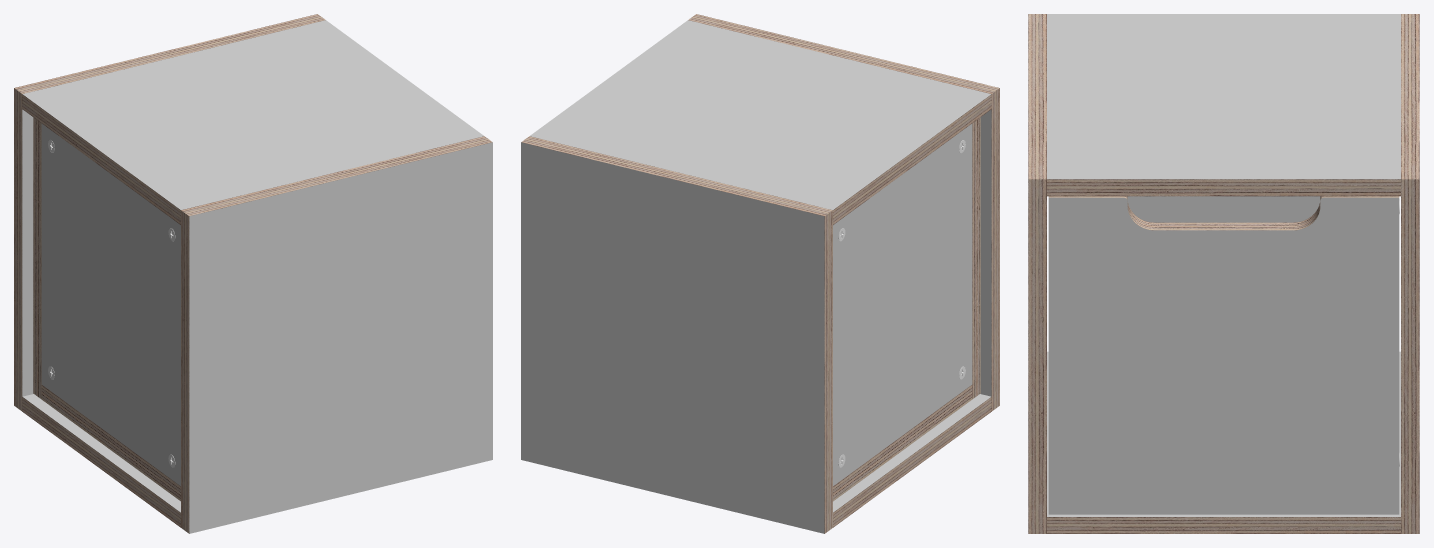
The model's file is Drawer Shelf.fbx.
3 renders of one model, left to right at view 1: azimuth 30°, elevation 25°; view 2: azimuth 150°, elevation 25°; view 3: azimuth 270°, elevation 25°, orthographic. The views are drawn at different scales.
Parts seen in each view (by area): view 1: Drawer Shelf TL, Drawer Shelf BL, Drawer Shelf L, DrawerShelf TR, Drawer Shelf T, Drawer Shelf BR, Drawer Shelf R, Drawer Shelf B, Drawer Shelf C; view 2: DrawerShelf TR, Drawer Shelf BR, Drawer Shelf R, Drawer Shelf TL, Drawer Shelf T, Drawer Shelf BL, Drawer Shelf L, Drawer Shelf B, Drawer Shelf C; view 3: Drawer Shelf TL, DrawerShelf TR, Drawer Shelf T, Drawer Shelf C, Drawer Shelf L, Drawer Shelf R, Drawer Shelf BL, Drawer Shelf BR, Drawer Shelf B.
Boxes of the visible parts, x1=… form: Drawer Shelf TL: x1=131, y1=99, x2=492, y2=321; Drawer Shelf BL: x1=131, y1=354, x2=492, y2=533; Drawer Shelf L: x1=141, y1=248, x2=492, y2=427; DrawerShelf TR: x1=14, y1=14, x2=375, y2=233; Drawer Shelf T: x1=72, y1=57, x2=433, y2=276; Drawer Shelf BR: x1=14, y1=300, x2=83, y2=448; Drawer Shelf R: x1=14, y1=194, x2=82, y2=339; Drawer Shelf B: x1=72, y1=340, x2=141, y2=490; Drawer Shelf C: x1=82, y1=234, x2=140, y2=382; DrawerShelf TR: x1=521, y1=99, x2=882, y2=321; Drawer Shelf BR: x1=521, y1=354, x2=882, y2=533; Drawer Shelf R: x1=521, y1=248, x2=872, y2=427; Drawer Shelf TL: x1=638, y1=14, x2=999, y2=233; Drawer Shelf T: x1=580, y1=57, x2=941, y2=276; Drawer Shelf BL: x1=930, y1=300, x2=999, y2=448; Drawer Shelf L: x1=931, y1=194, x2=999, y2=339; Drawer Shelf B: x1=872, y1=340, x2=941, y2=490; Drawer Shelf C: x1=873, y1=234, x2=931, y2=382; Drawer Shelf TL: x1=1028, y1=14, x2=1158, y2=297; DrawerShelf TR: x1=1289, y1=14, x2=1419, y2=297; Drawer Shelf T: x1=1158, y1=14, x2=1289, y2=296; Drawer Shelf C: x1=1158, y1=196, x2=1289, y2=414; Drawer Shelf L: x1=1028, y1=196, x2=1158, y2=415; Drawer Shelf R: x1=1289, y1=196, x2=1419, y2=415; Drawer Shelf BL: x1=1028, y1=351, x2=1158, y2=533; Drawer Shelf BR: x1=1289, y1=351, x2=1419, y2=533; Drawer Shelf B: x1=1158, y1=415, x2=1289, y2=533.
Bounding box in the file's own units: 40 × 40.01 × 40.
